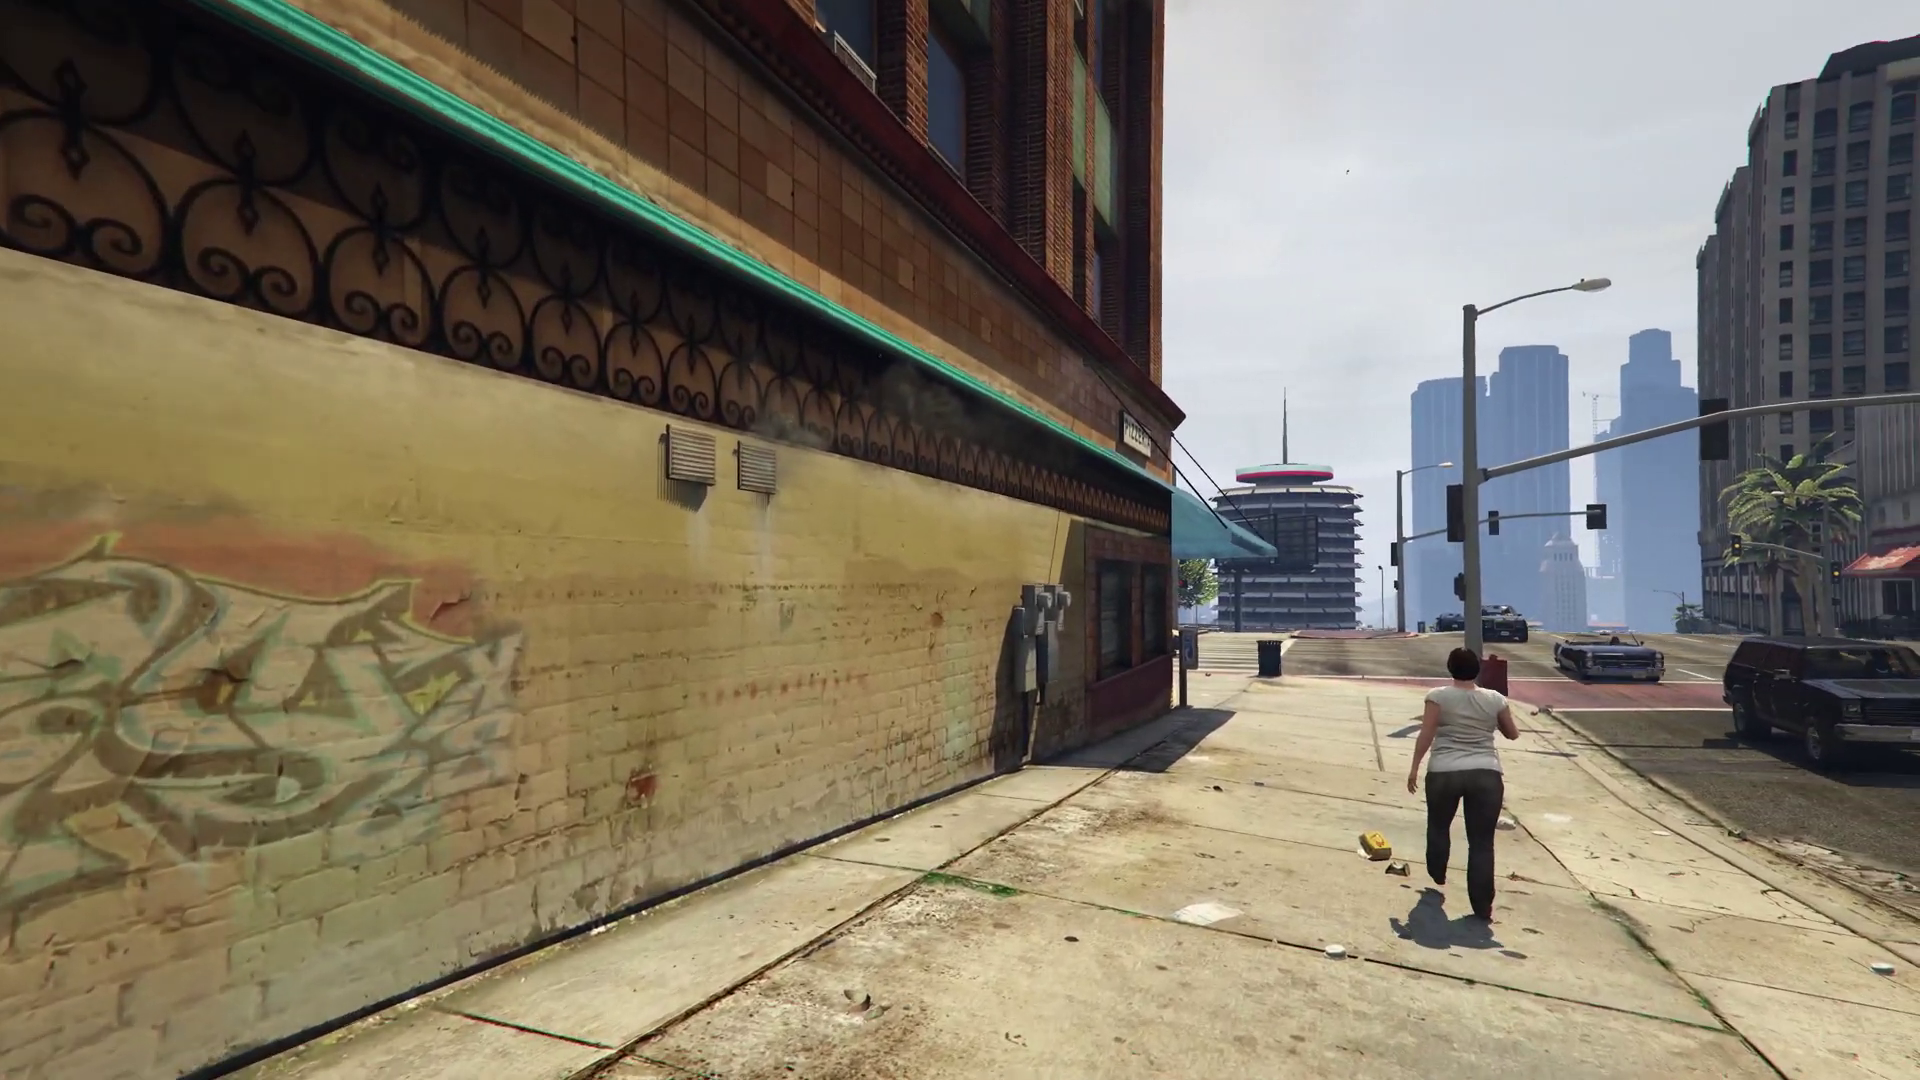car: (1723, 633, 1920, 766), (1552, 628, 1664, 689), (1481, 604, 1527, 642), (1435, 613, 1464, 631)
person: (1411, 647, 1519, 924)
traffic light: (1699, 397, 1727, 460), (1446, 485, 1463, 543), (1585, 503, 1607, 532), (1488, 513, 1498, 535), (1731, 534, 1740, 558), (1830, 560, 1840, 582), (1390, 542, 1396, 567)
